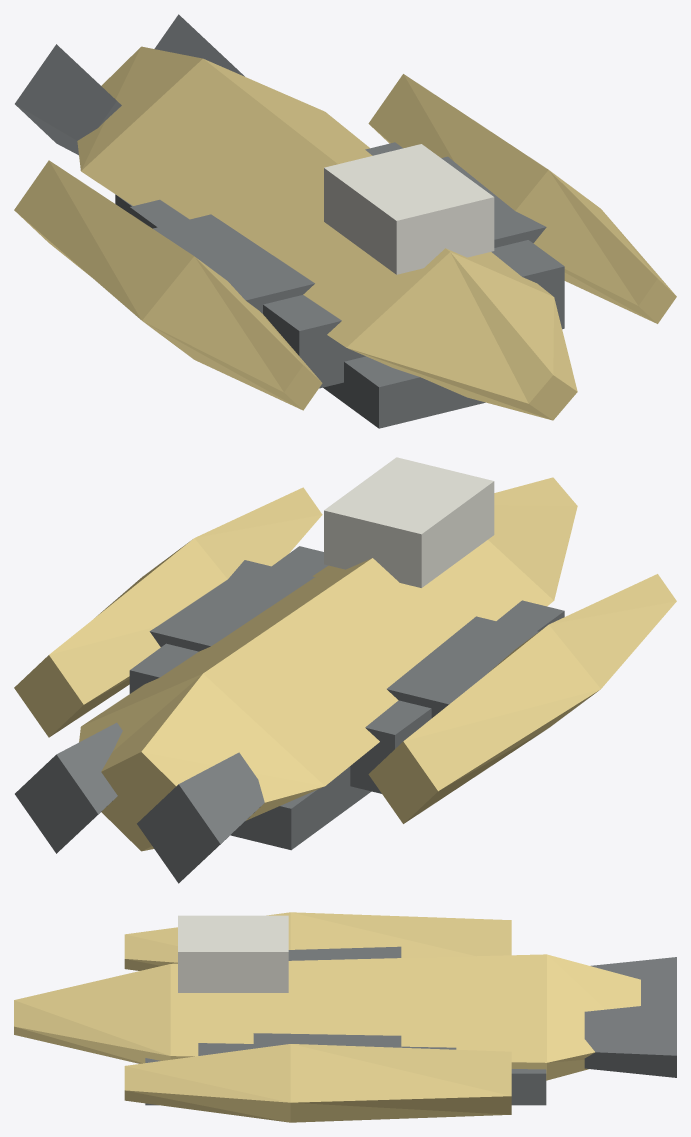
3 renders of one model, top to bottom at view 1: azimuth 30°, elevation 25°; view 2: azimuth 150°, elevation 25°; view 3: azimuth 270°, elevation 25°, orthographic. The views are drawn at different scales.
Size of the model in its own units: 4.68 by 1.88 by 7.7.
